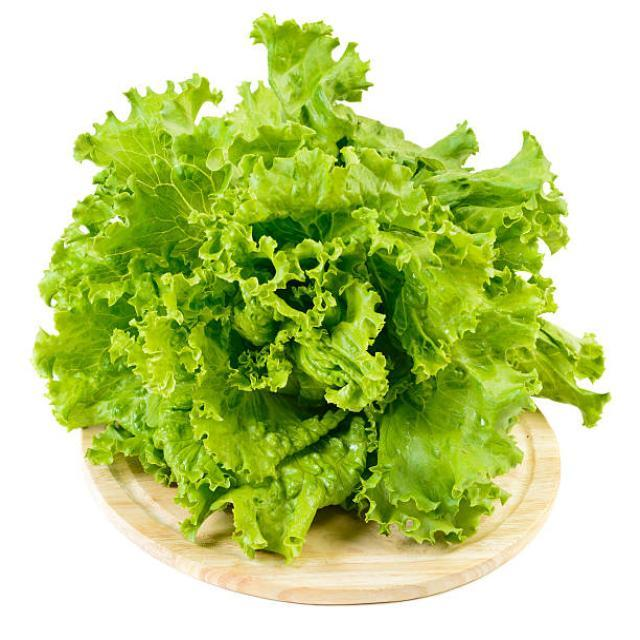Lettuce-Ready-to-Harvest: (35, 16, 609, 558)
